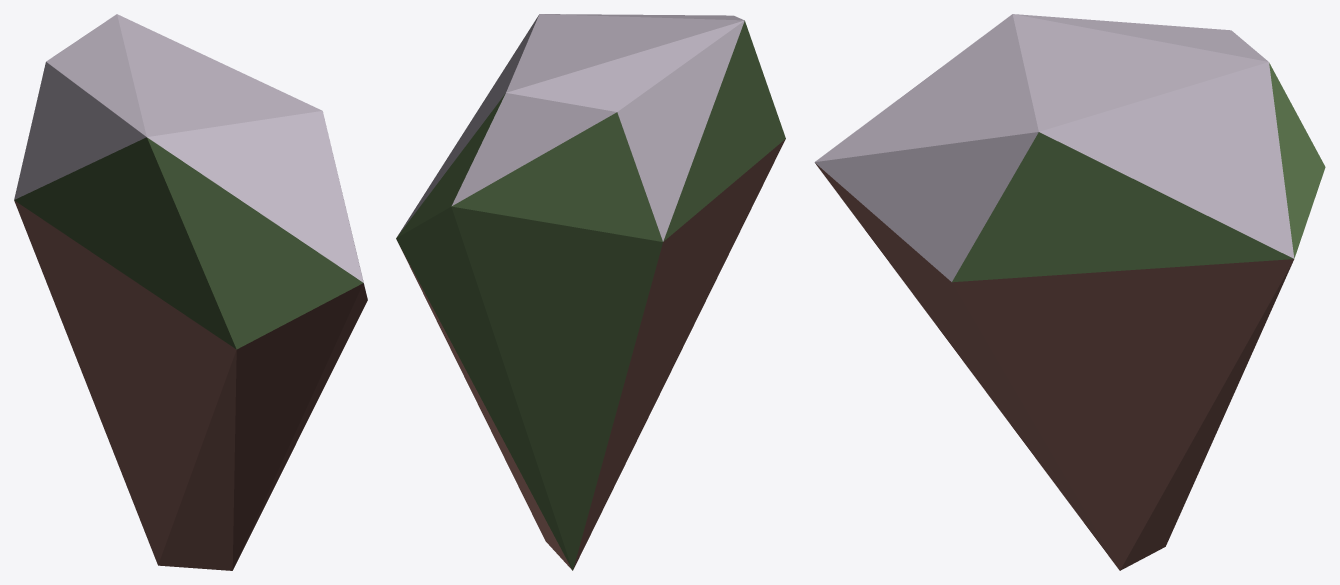
Rendered from CommonTree_Snow_5.lod4.glb.
The picture shows the model from 3 angles, left to right: view 1: azimuth 30°, elevation 25°; view 2: azimuth 150°, elevation 25°; view 3: azimuth 270°, elevation 25°; orthographic projection. The views are drawn at different scales.
Visible parts, largest first — view 1: CommonTree_Snow_5; view 2: CommonTree_Snow_5; view 3: CommonTree_Snow_5.
Boxes of the visible parts, bbox=[...] form: CommonTree_Snow_5: bbox=[14, 14, 367, 570]; CommonTree_Snow_5: bbox=[396, 14, 785, 570]; CommonTree_Snow_5: bbox=[814, 14, 1325, 570].
Size of the model in its own units: 1.17 by 2.54 by 2.4.
